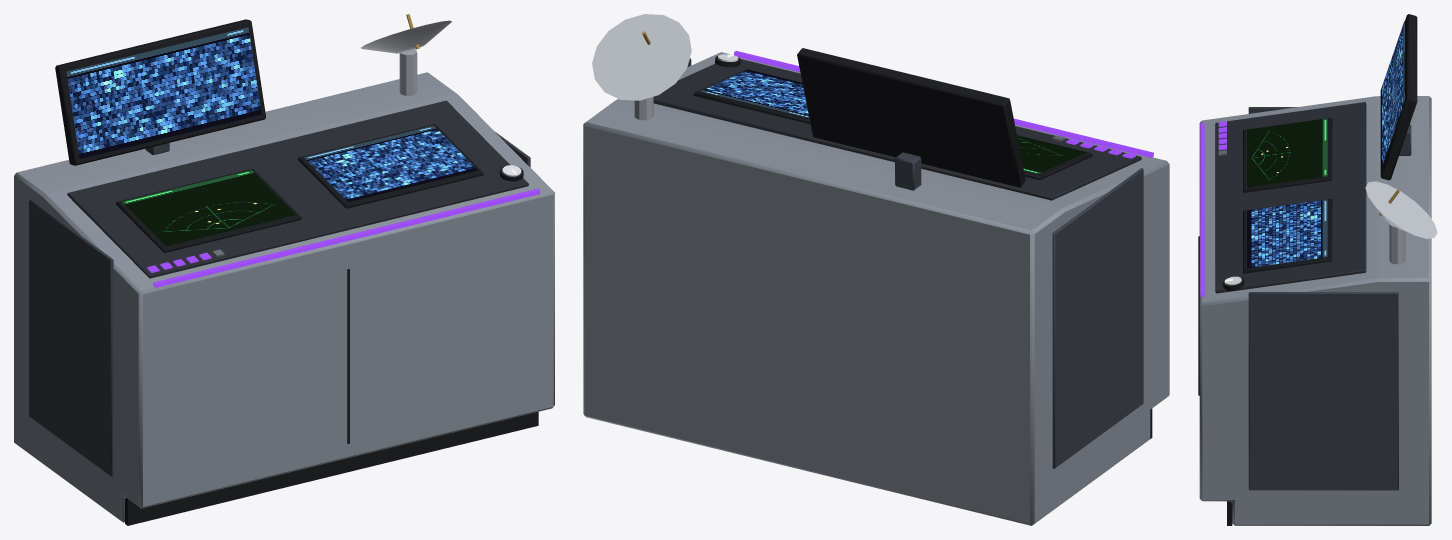
The model's file is console_sensor.glb.
3 views of the same model, side by side, from view 1: azimuth 30°, elevation 25°; view 2: azimuth 150°, elevation 25°; view 3: azimuth 270°, elevation 25° (orthographic). The views are drawn at different scales.
Parts seen in each view (by area): view 1: console_sensor; view 2: console_sensor; view 3: console_sensor.
Boxes of the visible parts, x1,y1,x2,y2 form: console_sensor: [14, 14, 554, 525]; console_sensor: [583, 14, 1169, 525]; console_sensor: [1198, 14, 1437, 525].
Bounding box in the file's own units: 1.62 × 1.39 × 0.8752.
Materials: 13 (2 with a texture image).
